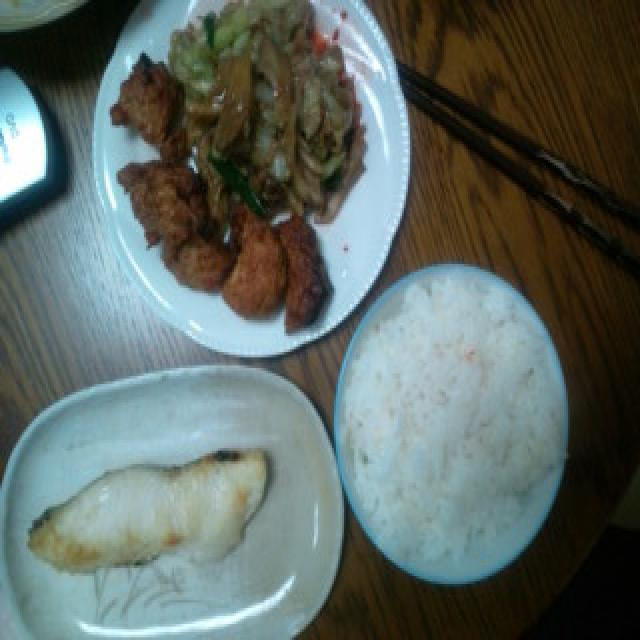Rice: (355, 279, 559, 552)
